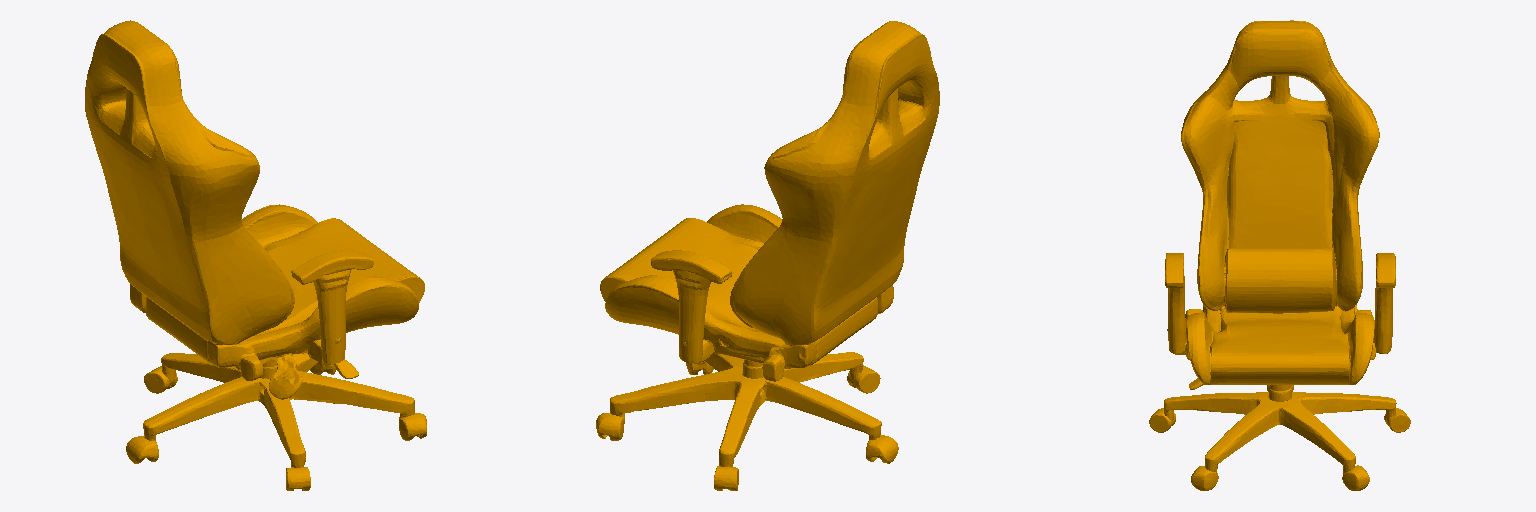
URDF robot description (computer_chair_41):
<?xml version="1.0" ?>
<robot name="computer_chair_41">
   <link name="computer_chair_41">
      <visual>
         <origin xyz="0 0 0" rpy="1.5708 0.0 0.0"/>
         <geometry>
            <mesh filename="mesh/computer_chair_41.obj" scale="1.0 1.0 1.0"/>
         </geometry>
      </visual>
      <collision>
         <origin xyz="0 0 0" rpy="1.5708 0.0 0.0"/>
         <geometry>
            <mesh filename="mesh/computer_chair_41_collision.obj" scale="1.0 1.0 1.0"/>
         </geometry>
         <gazebo>
            <mu1>0.80</mu1>
            <mu2>0.60</mu2>
         </gazebo>
      </collision>
      <inertial>
         <mass value="17.5000"/>
         <origin xyz="0 0 0"/>
         <inertia ixx="1.0" ixy="0.0" ixz="0.0" iyy="1.0" iyz="0.0" izz="1.0"/>
      </inertial>
      <extra_info>
         <scale>1.300000</scale>
         <version>v0.1.5</version>
         <category>computer_chair</category>
         <description>ergonomic gaming chair with red accents, adjustable armrests, and wheeled base</description>
         <min_height>1.2</min_height>
         <max_height>1.4</max_height>
         <real_height>1.3</real_height>
         <min_mass>15.0</min_mass>
         <max_mass>20.0</max_mass>
         <generate_time>20251021125850</generate_time>
         <gs_model>mesh/computer_chair_41_gs.ply</gs_model>
      </extra_info>
   </link>
   <custom_data>
      <quality>
         <MeshGeoChecker>YES</MeshGeoChecker>
         <ImageSegChecker>YES</ImageSegChecker>
         <ImageAestheticChecker>4.855762958526611</ImageAestheticChecker>
         <overall>YES</overall>
      </quality>
   </custom_data>
</robot>

--- Render facts (derived) ---
Views: 3 orthographic renders of the robot side by side, from view 1: azimuth 30°, elevation 25°; view 2: azimuth 150°, elevation 25°; view 3: azimuth 270°, elevation 25°.
Robot: computer_chair_41 — 1 links, 0 joints (none); root link computer_chair_41; default pose: every joint at zero.
Links seen in each view (by area): view 1: computer_chair_41; view 2: computer_chair_41; view 3: computer_chair_41.
Boxes of the visible links, x1=… form: computer_chair_41: x1=85, y1=20, x2=426, y2=490; computer_chair_41: x1=596, y1=21, x2=939, y2=490; computer_chair_41: x1=1149, y1=20, x2=1410, y2=490.
Size in the robot's own frame: 0.851 by 0.8404 by 1.3 metres.
1 mesh visuals loaded from 1 distinct referenced files (1 OBJ).
